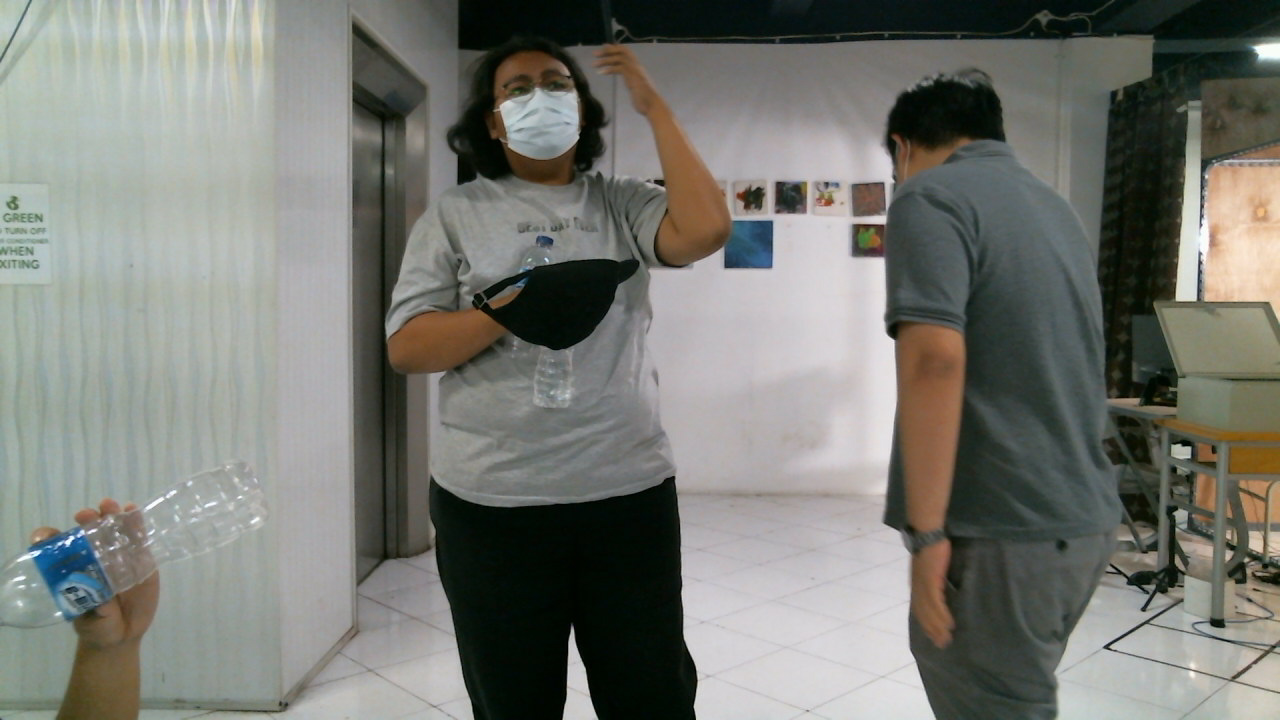Bottle: (2, 460, 270, 631)
